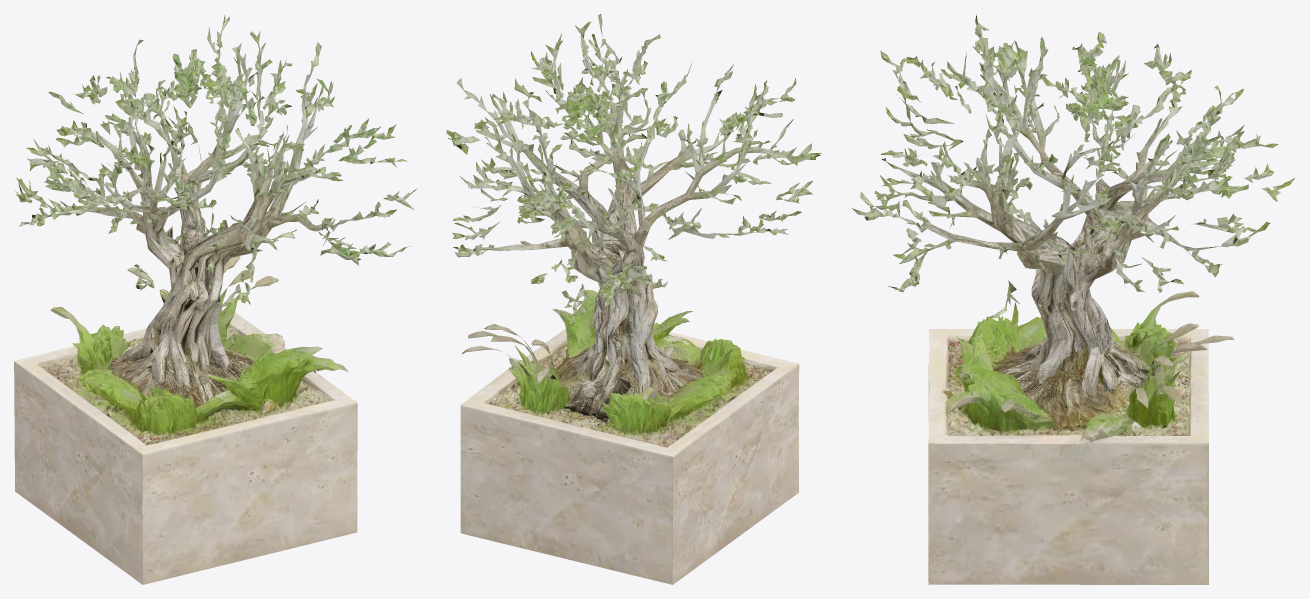
File: olive.glb
The picture shows the model from 3 angles, left to right: view 1: azimuth 30°, elevation 25°; view 2: azimuth 150°, elevation 25°; view 3: azimuth 270°, elevation 25°; orthographic projection. The views are drawn at different scales.
Parts seen in each view (by area): view 1: Mesh_0; view 2: Mesh_0; view 3: Mesh_0.
Part boxes in pixels (x1=…): Mesh_0: x1=14, y1=15, x2=416, y2=584; Mesh_0: x1=446, y1=14, x2=821, y2=584; Mesh_0: x1=852, y1=14, x2=1294, y2=584.
Bounding box in the file's own units: 1.36 × 1.87 × 1.45.
1 material, 1 textured.
